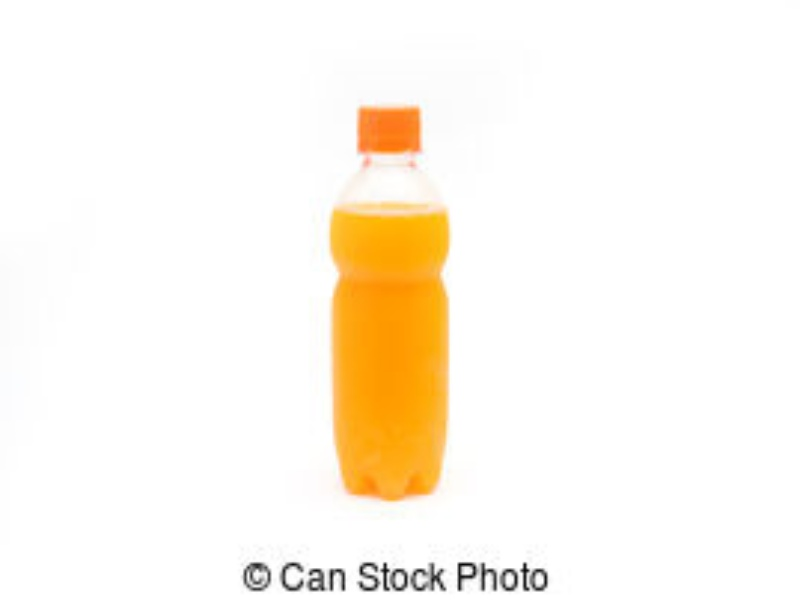Jugo de naranja: (331, 105, 450, 500)
